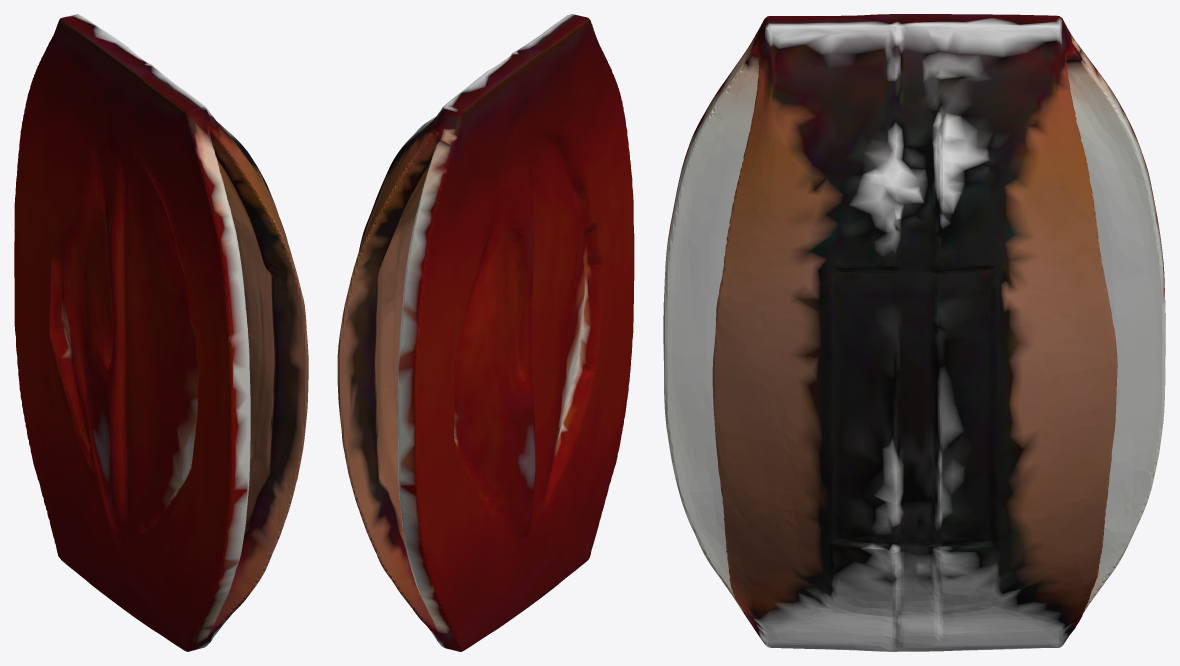
The model's file is huntersbow.glb.
3 renders of one model, left to right at view 1: azimuth 30°, elevation 25°; view 2: azimuth 150°, elevation 25°; view 3: azimuth 270°, elevation 25°, orthographic. The views are drawn at different scales.
Parts seen in each view (by area): view 1: geometry_0; view 2: geometry_0; view 3: geometry_0.
Part boxes in pixels (x1,y1,x2,y2): geometry_0: [14, 14, 308, 651]; geometry_0: [337, 14, 634, 651]; geometry_0: [663, 14, 1165, 651].
Bounding box in the file's own units: 0.2812 × 0.9593 × 0.6952.
